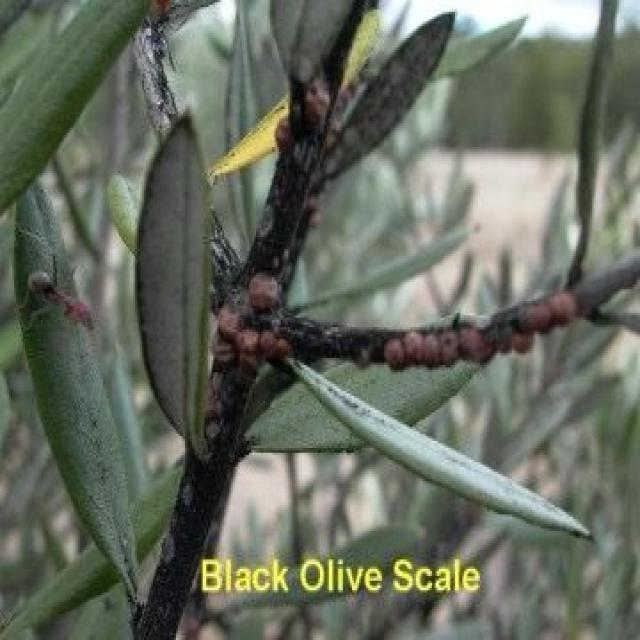BlackScale: (380, 286, 584, 368), (212, 304, 293, 386), (243, 278, 280, 310)
